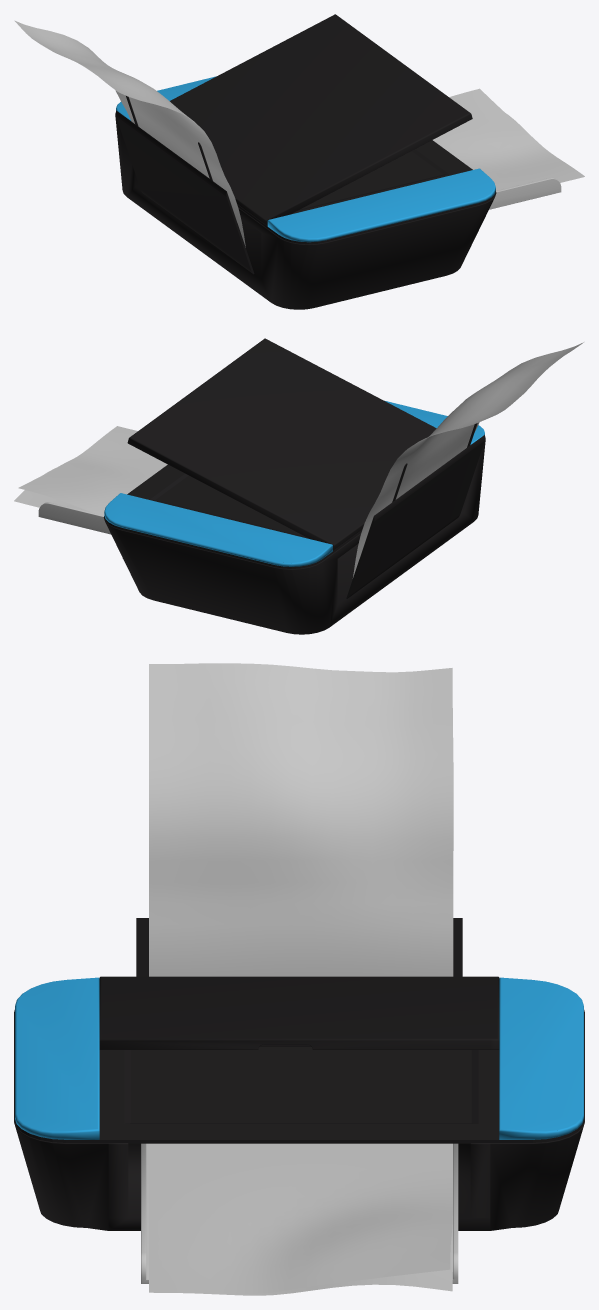
Rendered from Printer.fbx.
The picture shows the model from 3 angles, top to bottom: view 1: azimuth 30°, elevation 25°; view 2: azimuth 150°, elevation 25°; view 3: azimuth 270°, elevation 25°; orthographic projection. The views are drawn at different scales.
Parts seen in each view (by area): view 1: Printer; view 2: Printer; view 3: Printer.
Boxes of the visible parts, x1,y1,x2,y2 form: Printer: (14, 14, 584, 309); Printer: (14, 338, 583, 634); Printer: (14, 663, 584, 1295).
Size of the model in its own units: 75.74 by 35.17 by 54.09.
